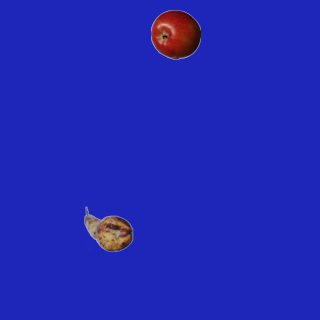Apple Braeburn: (150, 9, 200, 59)
Pear Abate: (83, 204, 133, 254)
